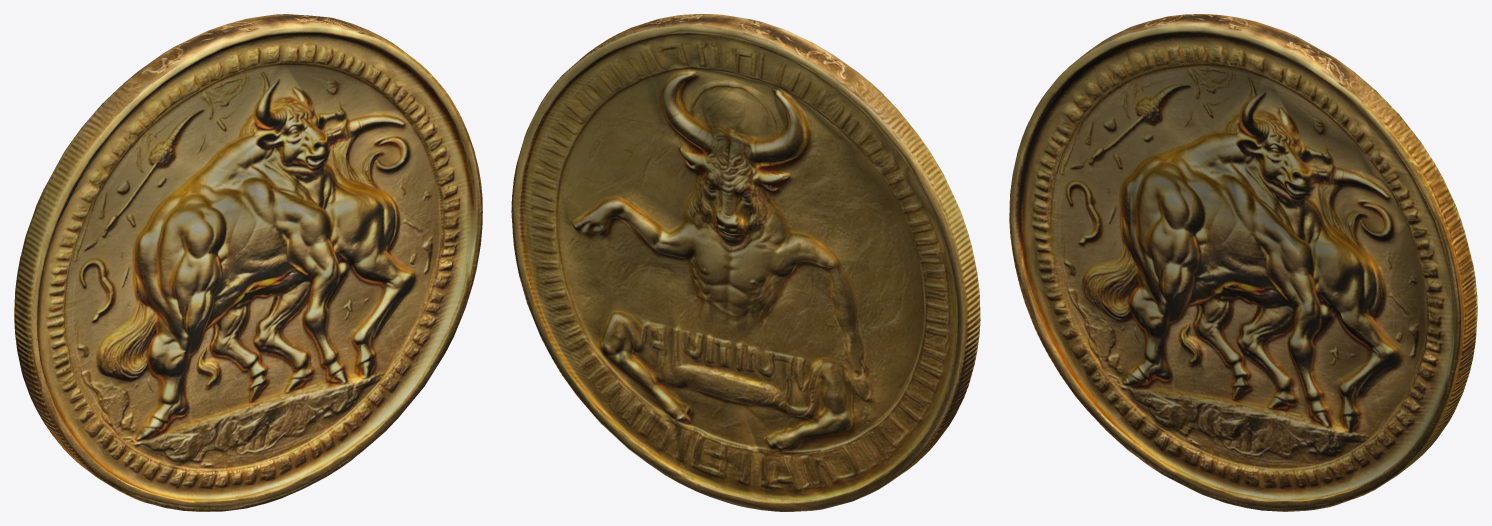
Rendered from minotaur.glb.
3 views of the same model, side by side, from view 1: azimuth 30°, elevation 25°; view 2: azimuth 150°, elevation 25°; view 3: azimuth 330°, elevation 25° (orthographic).
Parts seen in each view (by area): view 1: file1; view 2: file1; view 3: file1.
Boxes of the visible parts, x1=… form: file1: x1=14, y1=14, x2=482, y2=511; file1: x1=511, y1=14, x2=980, y2=511; file1: x1=1009, y1=14, x2=1477, y2=511.
Bounding box in the file's own units: 2 × 2 × 0.1597.
Materials: 1 (1 with a texture image).
